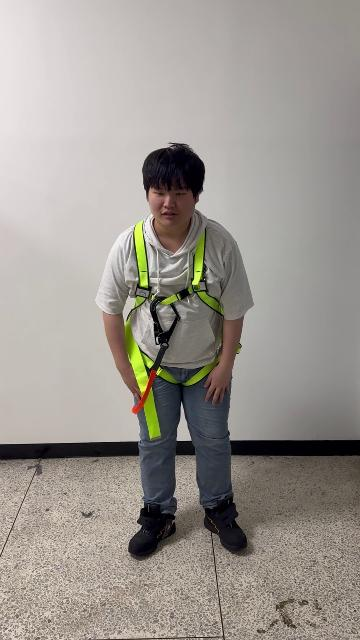helmet_not_worn: (143, 146, 205, 207)
shoe_worn: (128, 503, 176, 556), (203, 498, 247, 551)
vest_worn: (119, 221, 237, 433)
